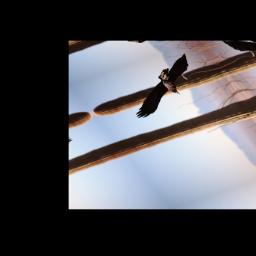Crow: (105, 52, 220, 121)
